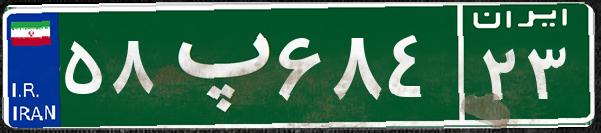2: (475, 38, 525, 113)
3: (525, 38, 570, 115)
4: (385, 28, 445, 110)
5: (57, 26, 110, 107)
6: (273, 28, 330, 110)
8: (330, 28, 385, 110), (110, 28, 158, 105)
پ: (158, 15, 273, 115)
